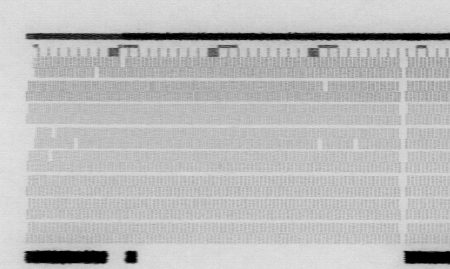Broken hole: (24, 125, 38, 149), (26, 57, 39, 79), (315, 138, 327, 151), (117, 56, 128, 70), (46, 148, 56, 163), (321, 78, 331, 93), (72, 136, 82, 150), (92, 67, 103, 79), (50, 127, 60, 140), (352, 138, 362, 151)
